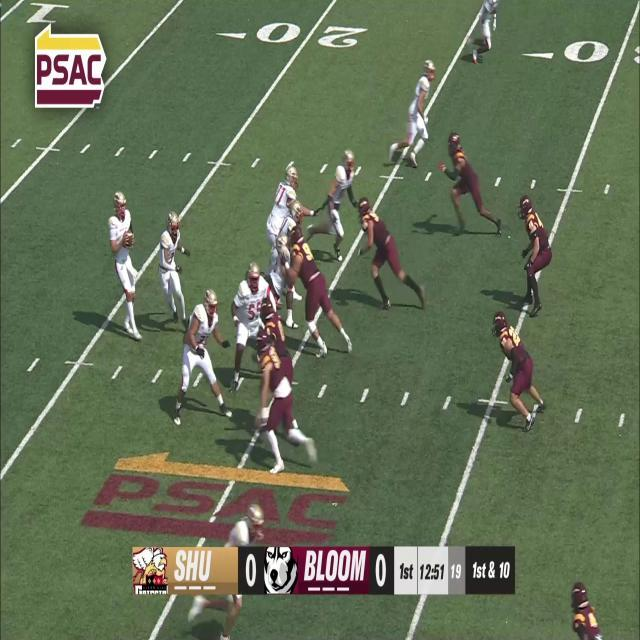football: (124, 228, 134, 248)
